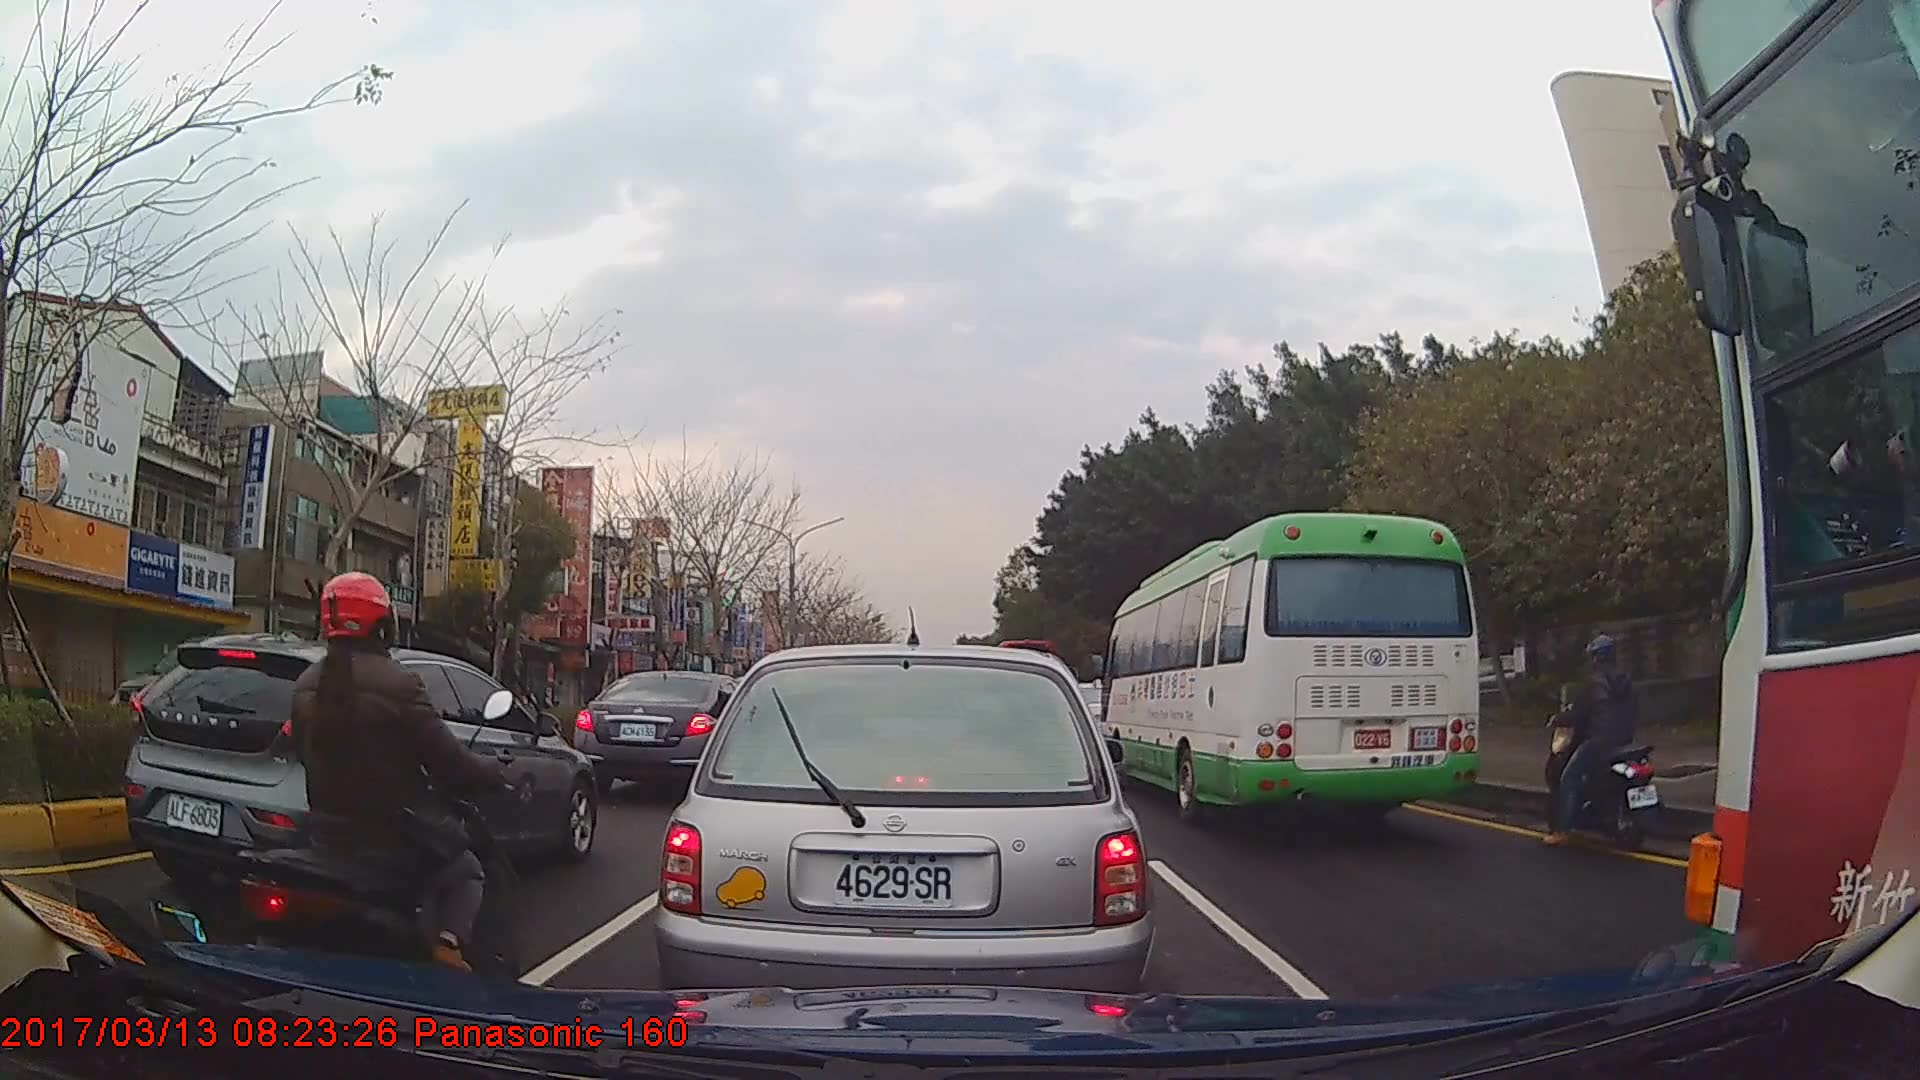rider: (267, 564, 505, 1028), (1540, 632, 1658, 851)
vehicle: (655, 640, 1160, 1039), (123, 644, 596, 920), (1104, 509, 1481, 819), (574, 669, 759, 802)
